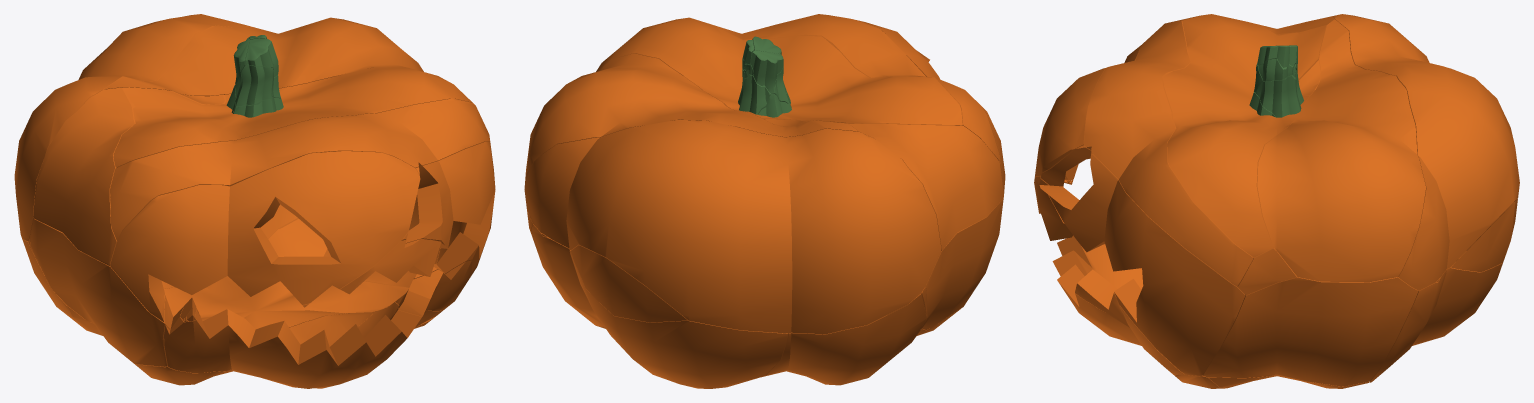
The model's file is PumpkinFractured.fbx.
3 renders of one model, left to right at view 1: azimuth 30°, elevation 25°; view 2: azimuth 150°, elevation 25°; view 3: azimuth 270°, elevation 25°, orthographic.
Visible parts, largest first — view 1: Pumpkin_cell.006, Pumpkin_cell, Pumpkin_cell.019, Pumpkin_cell.010, Pumpkin_cell.008, Pumpkin_cell.020, Pumpkin_cell.002, Pumpkin_cell.015, Pumpkin_cell.003, Pumpkin_cell.011, Pumpkin_cell.017, Pumpkin_cell.001 (+7 smaller); view 2: Pumpkin_cell.002, Pumpkin_cell.019, Pumpkin_cell.008, Pumpkin_cell.004, Pumpkin_cell.020, Pumpkin_cell.012, Pumpkin_cell, Pumpkin_cell.015, Pumpkin_cell.018, Pumpkin_cell.006, Stalk_cell.009, Stalk_cell.004 (+1 smaller); view 3: Pumpkin_cell.008, Pumpkin_cell.002, Pumpkin_cell.019, Pumpkin_cell.003, Pumpkin_cell.009, Pumpkin_cell, Pumpkin_cell.004, Pumpkin_cell.010, Pumpkin_cell.006, Pumpkin_cell.018, Pumpkin_cell.001, Pumpkin_cell.007 (+5 smaller).
Boxes of the visible parts, x1=… form: Pumpkin_cell.006: x1=110, y1=151, x2=420, y2=322; Pumpkin_cell: x1=110, y1=98, x2=490, y2=240; Pumpkin_cell.019: x1=113, y1=67, x2=472, y2=167; Pumpkin_cell.010: x1=163, y1=302, x2=443, y2=388; Pumpkin_cell.008: x1=104, y1=17, x2=423, y2=96; Pumpkin_cell.020: x1=33, y1=87, x2=226, y2=265; Pumpkin_cell.002: x1=14, y1=14, x2=251, y2=240; Pumpkin_cell.015: x1=29, y1=218, x2=198, y2=366; Pumpkin_cell.003: x1=401, y1=141, x2=495, y2=278; Pumpkin_cell.011: x1=67, y1=276, x2=408, y2=335; Pumpkin_cell.017: x1=134, y1=307, x2=435, y2=387; Pumpkin_cell.001: x1=395, y1=260, x2=473, y2=316; Pumpkin_cell.002: x1=524, y1=120, x2=941, y2=334; Pumpkin_cell.019: x1=596, y1=17, x2=962, y2=124; Pumpkin_cell.008: x1=525, y1=53, x2=858, y2=182; Pumpkin_cell.004: x1=531, y1=224, x2=788, y2=388; Pumpkin_cell.020: x1=763, y1=118, x2=1003, y2=250; Pumpkin_cell.012: x1=747, y1=293, x2=926, y2=385; Pumpkin_cell: x1=676, y1=14, x2=1000, y2=167; Pumpkin_cell.015: x1=921, y1=198, x2=1003, y2=329; Pumpkin_cell.018: x1=571, y1=245, x2=687, y2=322; Pumpkin_cell.006: x1=828, y1=15, x2=1005, y2=193; Stalk_cell.009: x1=751, y1=50, x2=783, y2=93; Stalk_cell.004: x1=738, y1=69, x2=770, y2=114; Pumpkin_cell.008: x1=1257, y1=19, x2=1425, y2=282; Pumpkin_cell.002: x1=1333, y1=14, x2=1519, y2=290; Pumpkin_cell.019: x1=1163, y1=14, x2=1326, y2=257; Pumpkin_cell.003: x1=1040, y1=145, x2=1245, y2=376; Pumpkin_cell.009: x1=1202, y1=277, x2=1418, y2=386; Pumpkin_cell: x1=1084, y1=15, x2=1253, y2=286; Pumpkin_cell.004: x1=1370, y1=236, x2=1502, y2=382; Pumpkin_cell.010: x1=1052, y1=235, x2=1177, y2=376; Pumpkin_cell.006: x1=1035, y1=45, x2=1141, y2=179; Pumpkin_cell.018: x1=1451, y1=199, x2=1517, y2=272; Pumpkin_cell.001: x1=1075, y1=269, x2=1184, y2=374; Pumpkin_cell.007: x1=1237, y1=247, x2=1296, y2=295.
Bounding box in the file's own units: 191 × 139 × 200.
